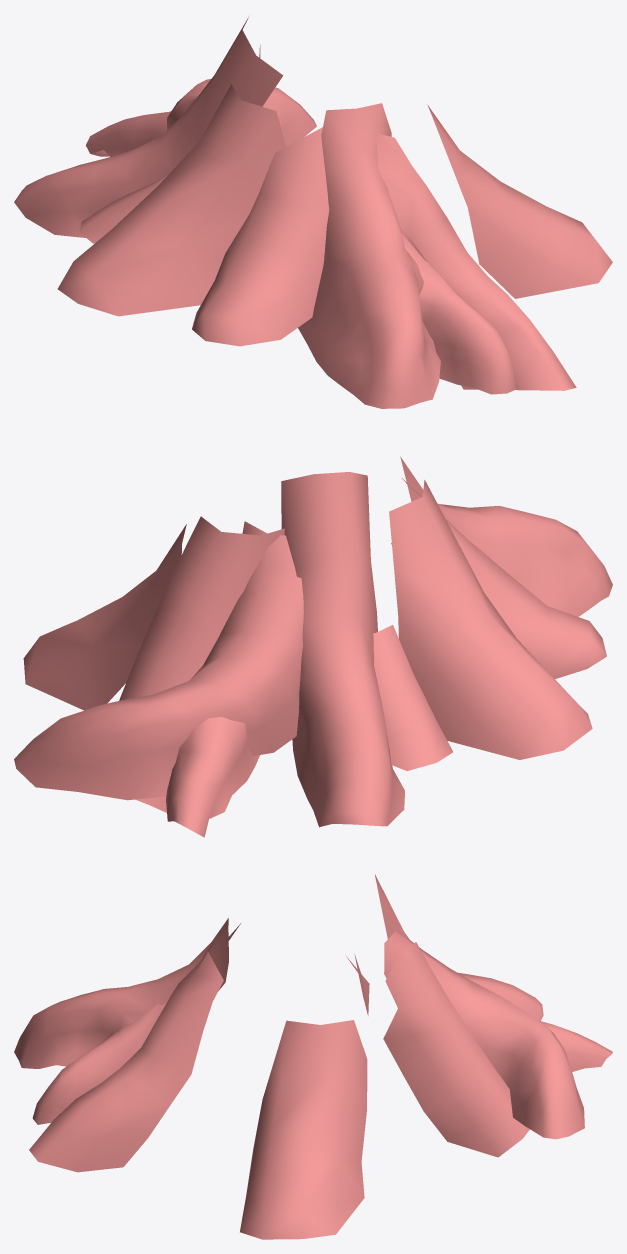
Rendered from wood_02.gltf.
3 views of the same model, one above another, from view 1: azimuth 30°, elevation 25°; view 2: azimuth 150°, elevation 25°; view 3: azimuth 270°, elevation 25° (orthographic). The views are drawn at different scales.
Parts seen in each view (by area): view 1: wood_02; view 2: wood_02; view 3: wood_02.
Part boxes in pixels (x1=…): wood_02: x1=14, y1=17, x2=612, y2=408; wood_02: x1=14, y1=456, x2=612, y2=837; wood_02: x1=14, y1=874, x2=612, y2=1239.
Size of the model in its own units: 25.59 by 13.2 by 29.44.
